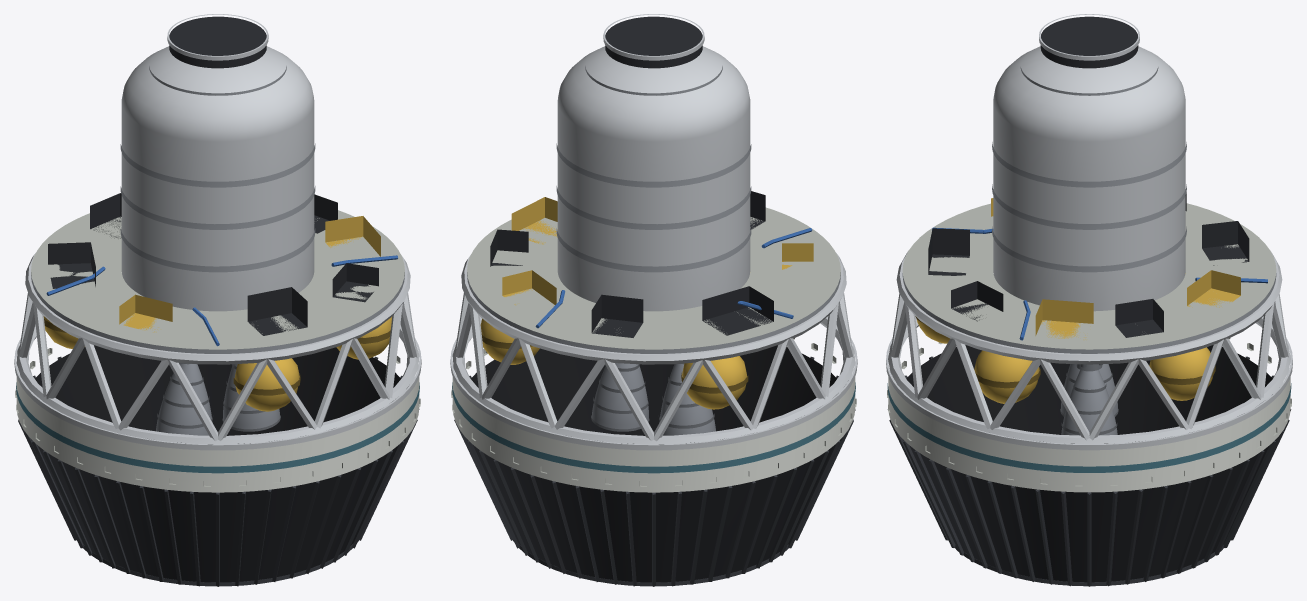
The model's file is pslv-ps4.glb.
3 renders of one model, left to right at view 1: azimuth 30°, elevation 25°; view 2: azimuth 150°, elevation 25°; view 3: azimuth 270°, elevation 25°, orthographic.
Parts seen in each view (by area): view 1: body; view 2: body; view 3: body.
Boxes of the visible parts, bbox=[...] form: body: bbox=[14, 14, 421, 586]; body: bbox=[450, 14, 857, 586]; body: bbox=[886, 14, 1292, 586].
Bounding box in the file's own units: 2.83 × 3.76 × 2.83.
